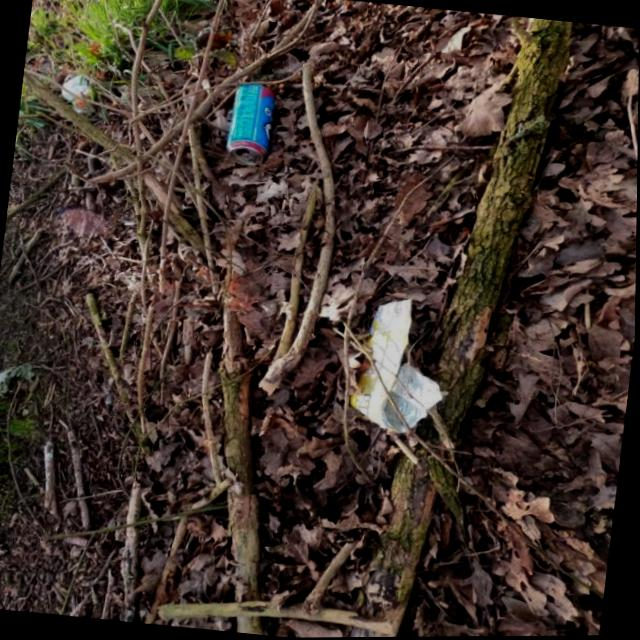Can-Metal: (212, 77, 285, 165)
Mask: (330, 276, 469, 439)
